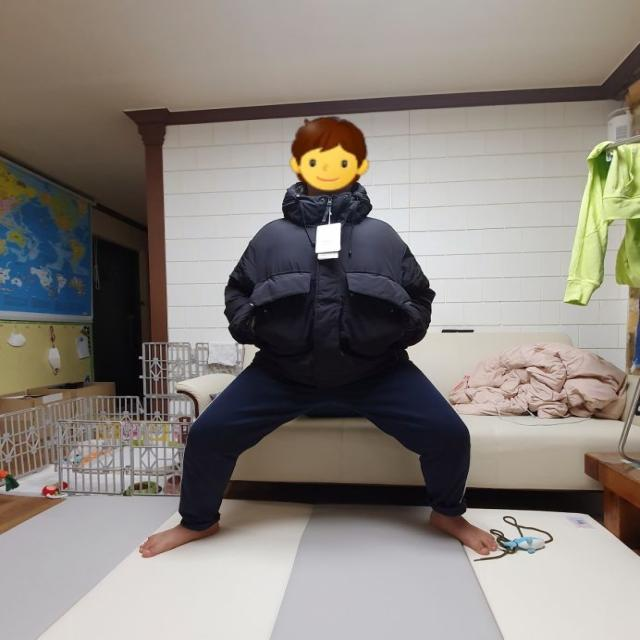padding: (220, 175, 432, 379)
trainingpants: (178, 337, 472, 523)
